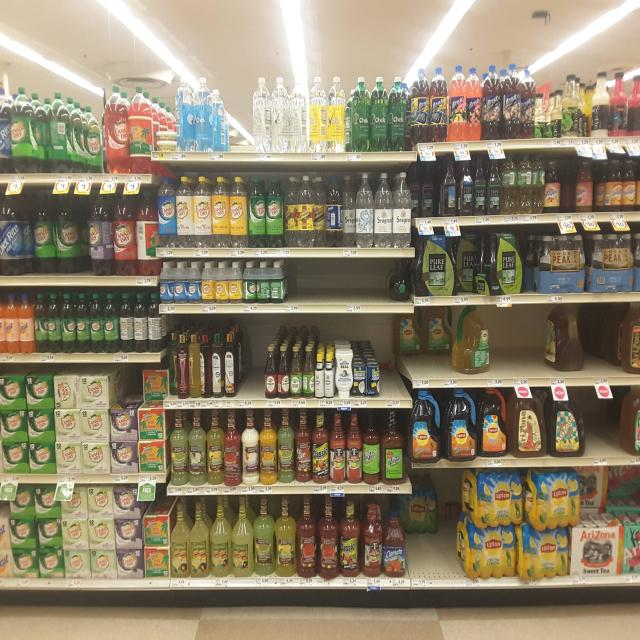void: (588, 307, 620, 388), (588, 390, 620, 468), (492, 306, 518, 388), (228, 67, 250, 161), (518, 306, 541, 389), (241, 324, 262, 409), (383, 352, 407, 407), (286, 259, 306, 313), (320, 264, 341, 315), (362, 262, 382, 313), (342, 262, 361, 310), (303, 263, 318, 313)
